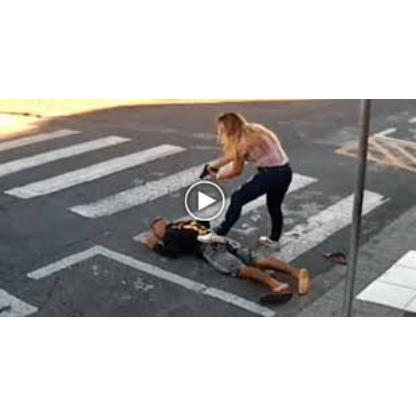gun: (196, 160, 219, 180)
